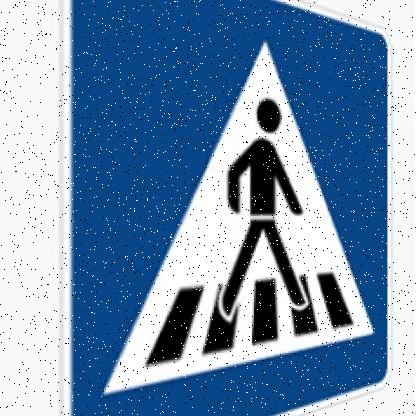Pedestrian Crossing: (59, 1, 396, 416)
